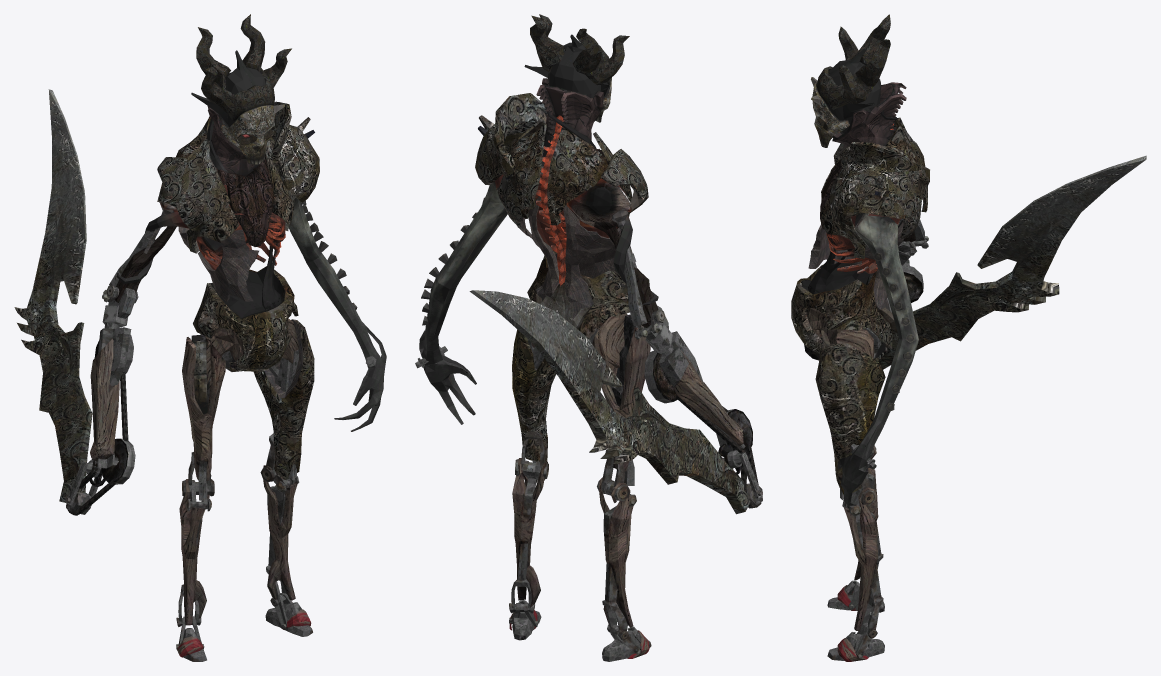
Rendered from deathKnight.obj.
3 renders of one model, left to right at view 1: azimuth 30°, elevation 25°; view 2: azimuth 150°, elevation 25°; view 3: azimuth 270°, elevation 25°, orthographic. The views are drawn at different scales.
Parts seen in each view (by area): view 1: rdmobj00_006, rdmobj01_003; view 2: rdmobj00_006, rdmobj01_003; view 3: rdmobj00_006, rdmobj01_003.
Part boxes in pixels (bbox=[...]): rdmobj00_006: bbox=[14, 89, 386, 661]; rdmobj01_003: bbox=[191, 14, 291, 175]; rdmobj00_006: bbox=[415, 93, 762, 661]; rdmobj01_003: bbox=[524, 14, 629, 166]; rdmobj00_006: bbox=[791, 110, 1146, 661]; rdmobj01_003: bbox=[811, 14, 906, 147].
Size of the model in its own units: 4.04 by 7.2 by 3.84.
2 materials, 2 textured.
